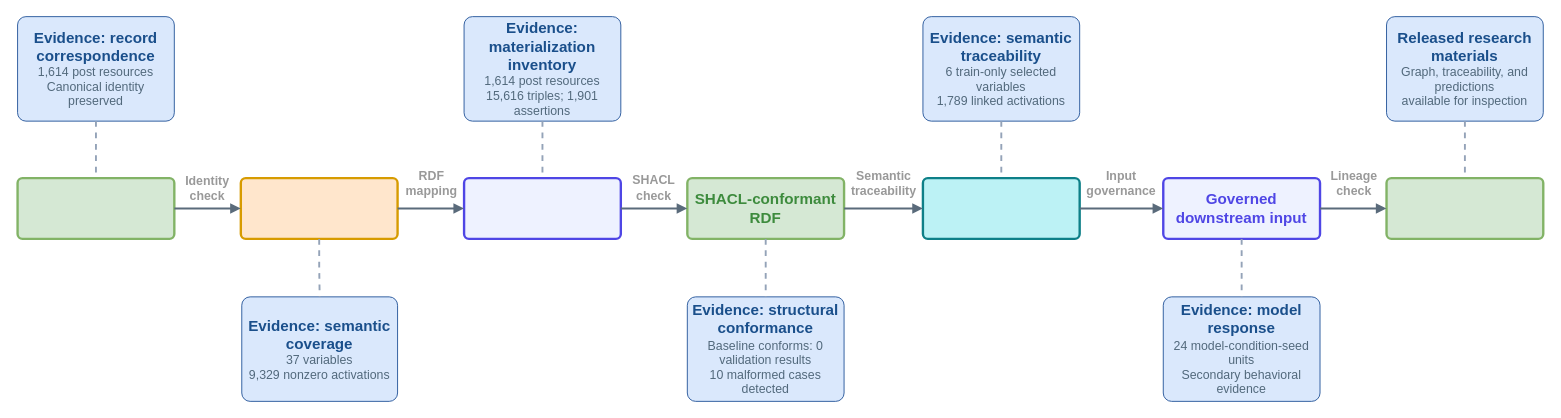
This 1561x418 diagram has some shape labels left out. The centre of each missing label's shape, as x and y in pixels:
Bounded evidence package: (1464,208)
Canonical post identity: (95,208)
Ontology activation: (318,208)
RDF graph artifact: (542,208)
Traceable semantic variables: (1000,208)
